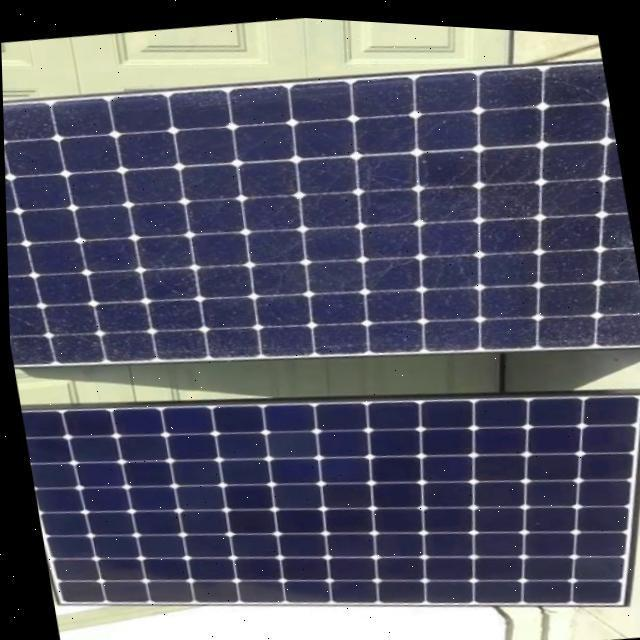Normal Solar Panel: (18, 324, 640, 640)
